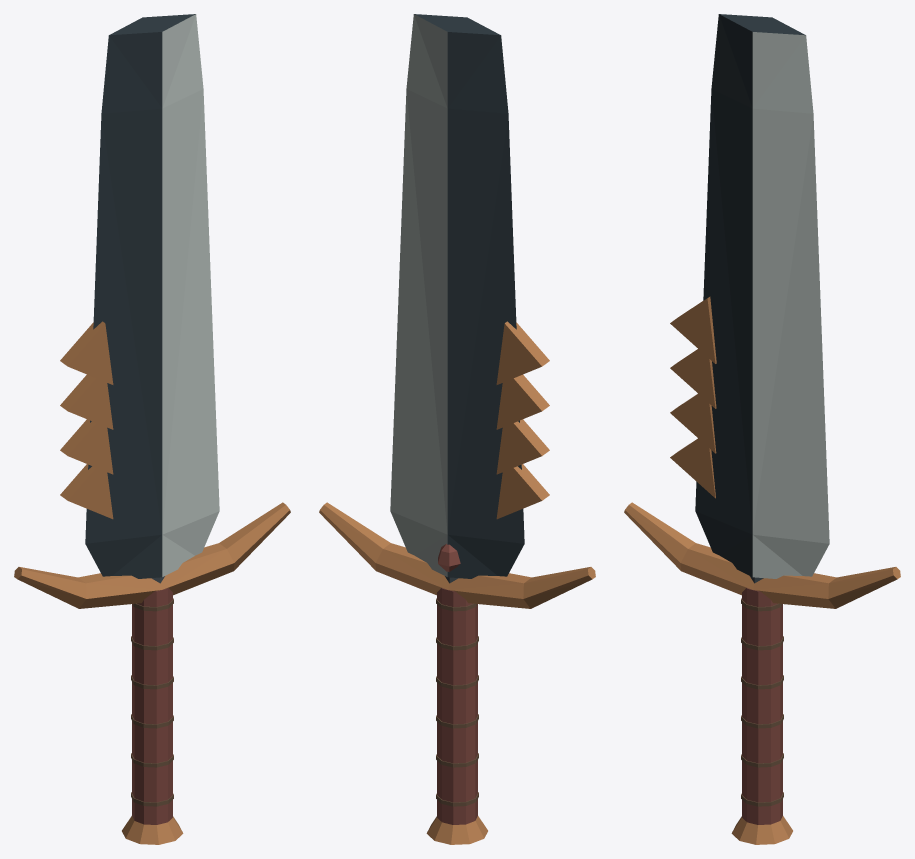
Rendered from AEW_Greatsword_KilnBreaker.fbx.
3 renders of one model, left to right at view 1: azimuth 30°, elevation 25°; view 2: azimuth 150°, elevation 25°; view 3: azimuth 330°, elevation 25°, orthographic.
Visible parts, largest first — view 1: AEW_Greatsword_KilnBreaker; view 2: AEW_Greatsword_KilnBreaker; view 3: AEW_Greatsword_KilnBreaker.
Part boxes in pixels (x1,y1,x2,y2): AEW_Greatsword_KilnBreaker: (14,14,290,844); AEW_Greatsword_KilnBreaker: (319,14,595,844); AEW_Greatsword_KilnBreaker: (624,14,900,844).
Size of the model in its own units: 0.6717 by 1.89 by 0.1255.
